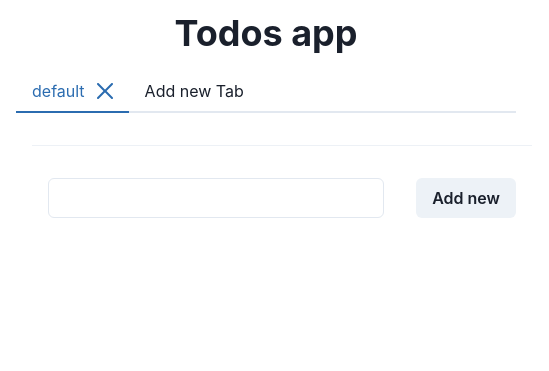
Test: adding elements › should allow adding a new todo(pressing enter)
The width and height of the screenshot is (549, 371).
Type "Buy groceries" into the field with test id "text-field" at point(216, 198), box x1=48 y1=178 x2=384 y2=218
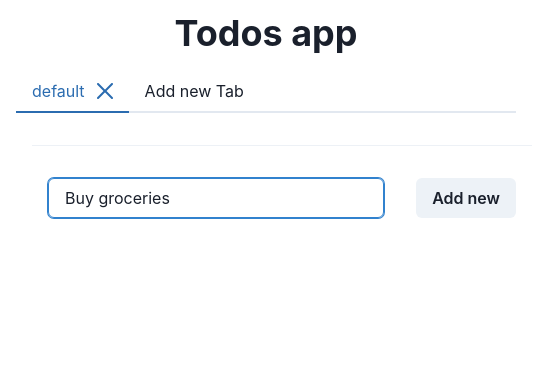
Press Enter in the field with test id "text-field", box x1=48 y1=178 x2=384 y2=218
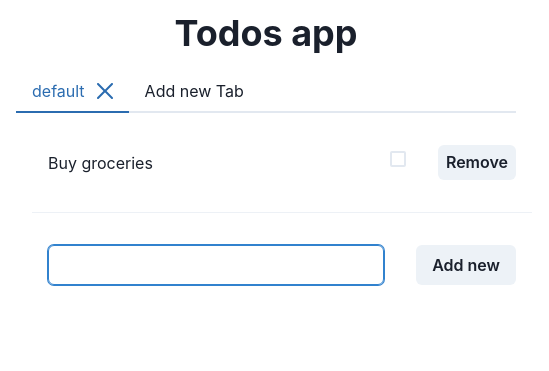
Type "Buy apples" into the field with test id "text-field" at point(216, 265), box x1=48 y1=245 x2=384 y2=285
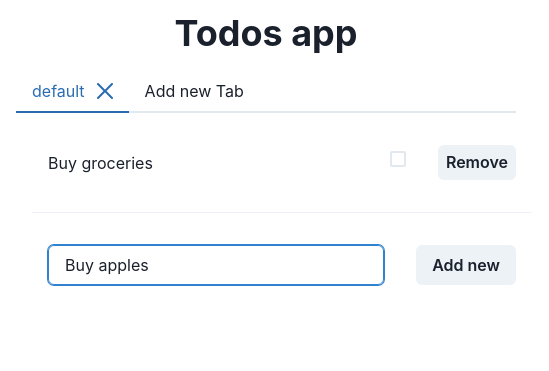
Press Enter in the field with test id "text-field", box x1=48 y1=245 x2=384 y2=285
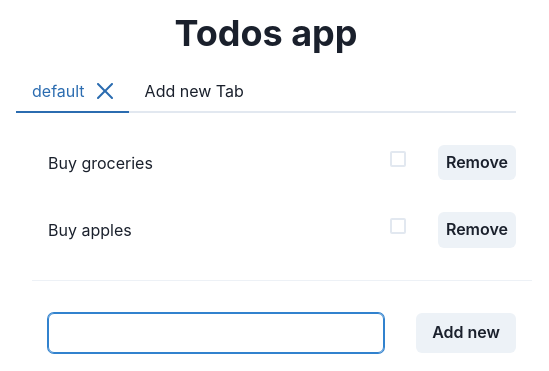
Result: the text "Buy groceries" is shown at x1=48 y1=153 x2=153 y2=173
Result: the text "Buy apples" is shown at x1=48 y1=220 x2=132 y2=240
Result: the number of elements with test id "todo-item" is 2 at x1=48 y1=153 x2=153 y2=173; x1=48 y1=220 x2=132 y2=240
